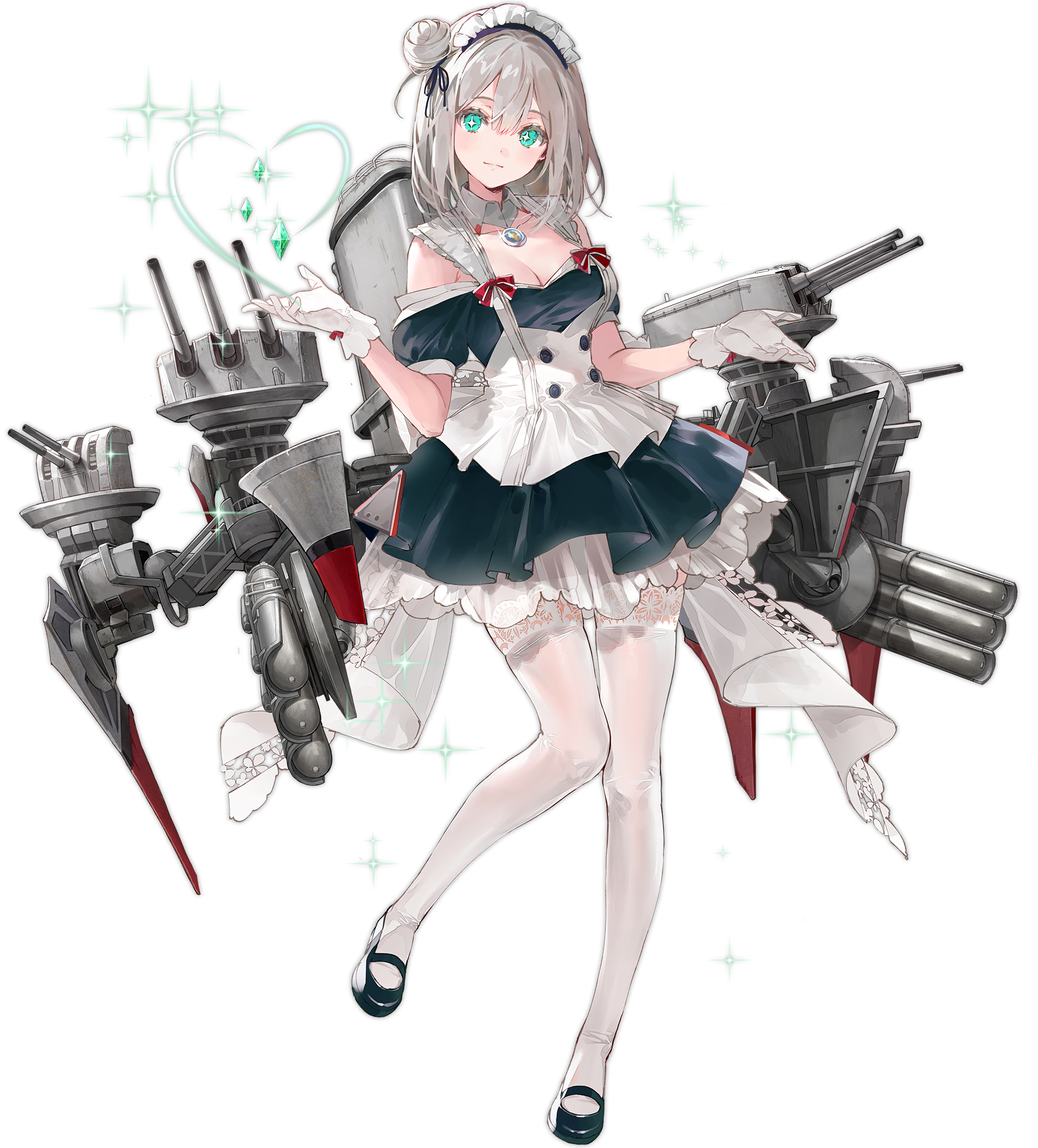person: (232, 3, 972, 1117)
